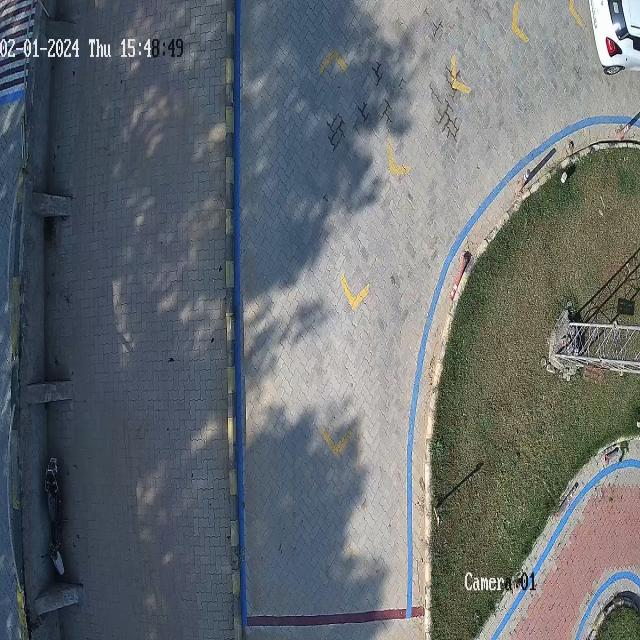car: (589, 0, 640, 73)
